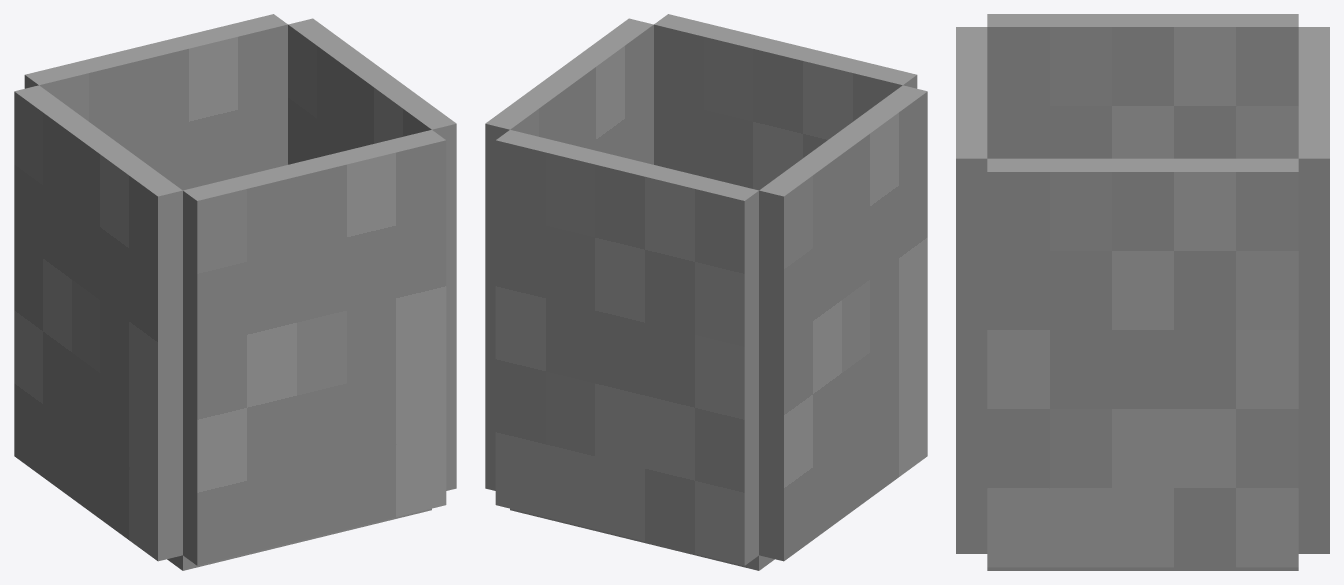
Rendered from crucible.gltf.
The picture shows the model from 3 angles, left to right: view 1: azimuth 30°, elevation 25°; view 2: azimuth 150°, elevation 25°; view 3: azimuth 270°, elevation 25°; orthographic projection. The views are drawn at different scales.
Parts seen in each view (by area): view 1: mesh (×5); view 2: mesh (×5); view 3: mesh (×5).
Part boxes in pixels (x1=…): mesh (×5): x1=14, y1=14, x2=456, y2=570; mesh (×5): x1=485, y1=14, x2=927, y2=570; mesh (×5): x1=956, y1=14, x2=1329, y2=570.
Bounding box in the file's own units: 0.375 × 0.4563 × 0.375.
Materials: 1 (1 with a texture image).
